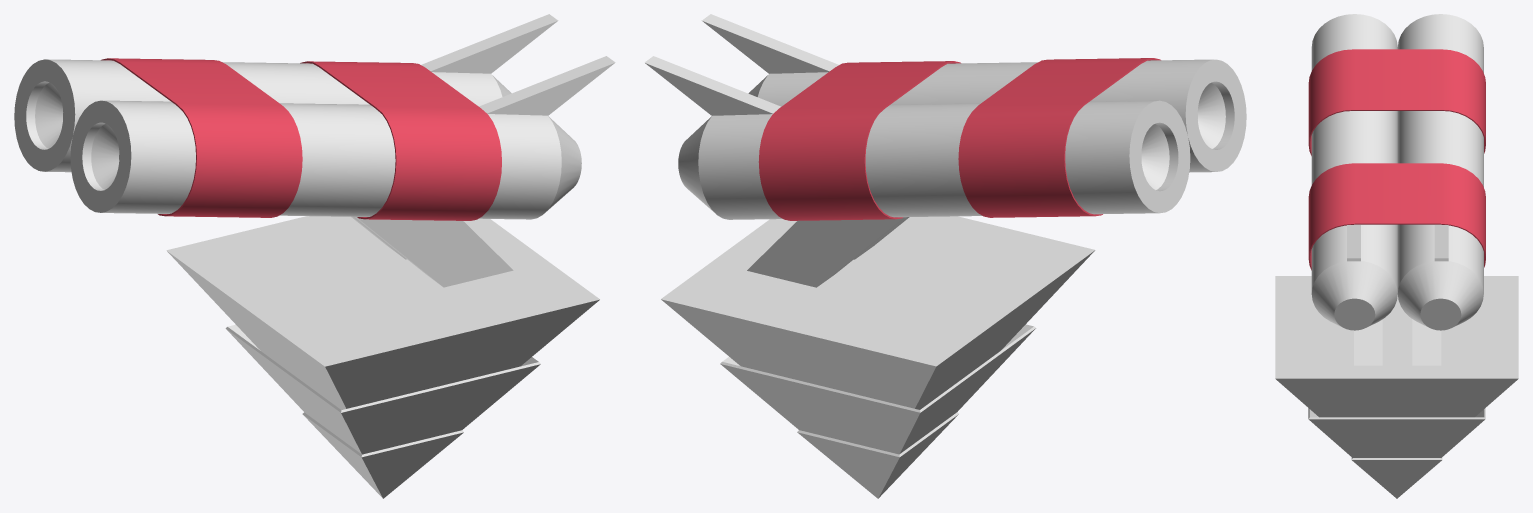
The model's file is UrsaMajor.fbx.
3 renders of one model, left to right at view 1: azimuth 30°, elevation 25°; view 2: azimuth 150°, elevation 25°; view 3: azimuth 270°, elevation 25°, orthographic. The views are drawn at different scales.
Visible parts, largest first — view 1: PyramidA, Cannon, Cylinder.003, PyramidB, Wings, Legs, PyramidC; view 2: PyramidA, Cannon, Cylinder.003, PyramidB, Wings, Legs, PyramidC; view 3: Cannon, PyramidA, Cylinder.003, PyramidB, Legs, PyramidC, Wings.
Boxes of the visible parts, box(x1,y1,x2,y2) form: PyramidA: box(166, 216, 599, 409); Cannon: box(14, 59, 581, 219); Cylinder.003: box(101, 58, 501, 220); PyramidB: box(225, 324, 540, 454); Wings: box(421, 14, 615, 115); Legs: box(351, 216, 513, 287); PyramidC: box(302, 412, 463, 498); PyramidA: box(661, 216, 1095, 409); Cannon: box(678, 59, 1246, 219); Cylinder.003: box(758, 58, 1160, 220); PyramidB: box(720, 324, 1035, 454); Wings: box(644, 14, 838, 115); Legs: box(747, 217, 909, 287); PyramidC: box(797, 412, 958, 498); Cannon: box(1311, 14, 1483, 330); PyramidA: box(1275, 276, 1518, 417); Cylinder.003: box(1308, 49, 1485, 270); PyramidB: box(1308, 408, 1485, 457); Legs: box(1354, 319, 1441, 365); PyramidC: box(1351, 457, 1442, 498); Wings: box(1347, 225, 1448, 261).
Size of the model in its own units: 771 by 689 by 407.
